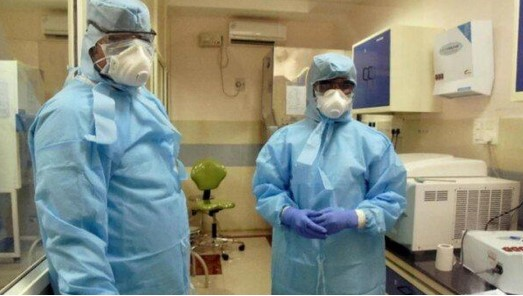face_with_mask: (89, 5, 159, 88), (308, 53, 358, 121)
